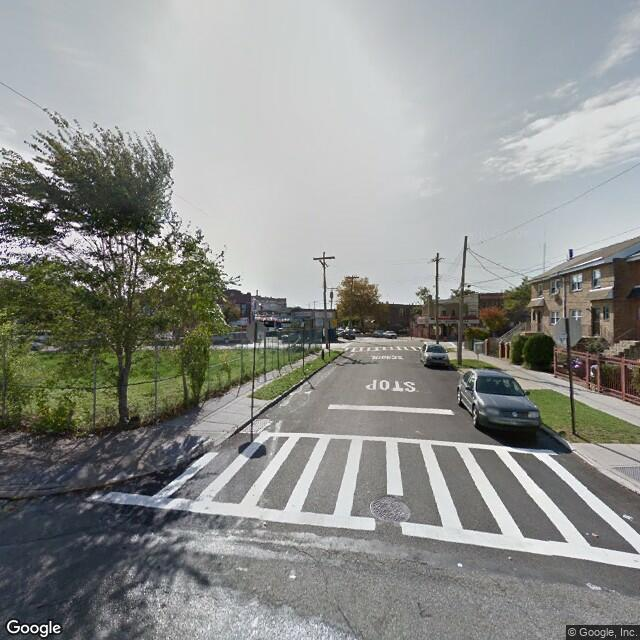litter: (285, 573, 301, 583), (586, 581, 601, 591), (585, 529, 598, 538), (302, 388, 318, 395), (621, 513, 634, 521), (453, 561, 465, 569), (504, 553, 515, 560), (87, 431, 95, 437), (297, 379, 307, 383)
